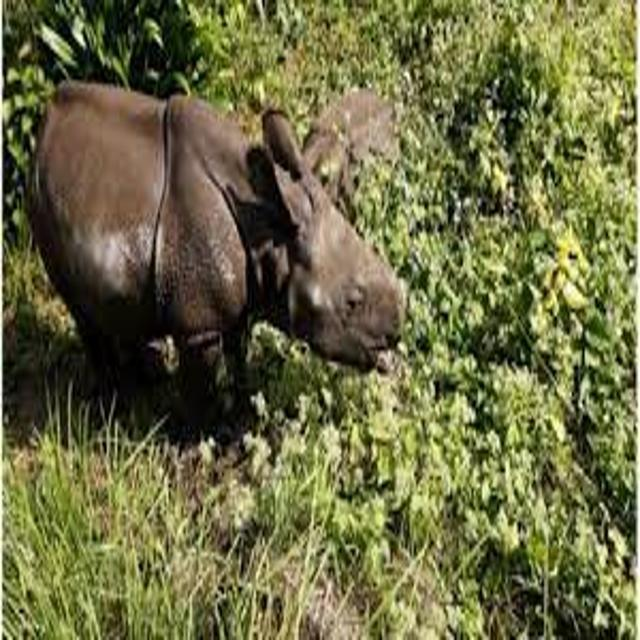Rinoceros: (4, 52, 427, 422)
